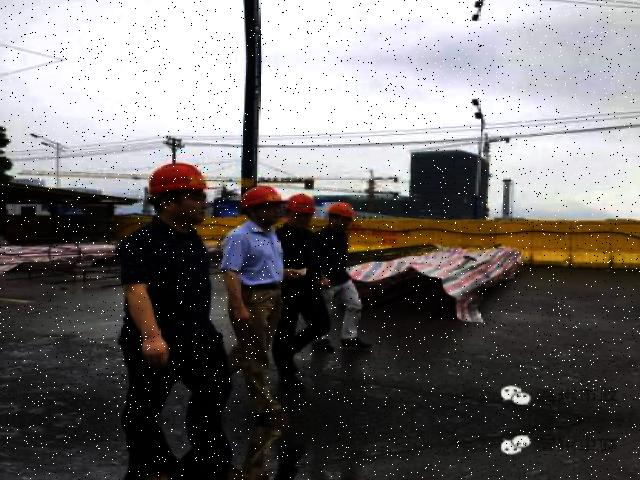Helmet: (140, 158, 210, 204), (235, 183, 283, 217), (281, 191, 316, 219), (322, 196, 358, 222)
